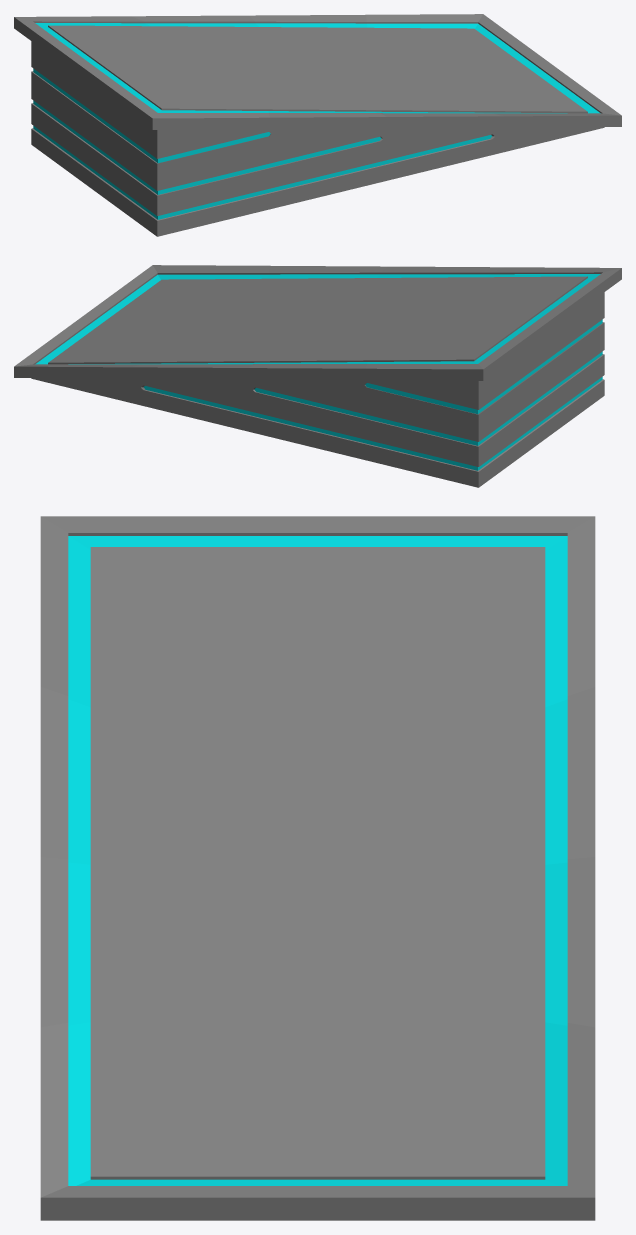
Rendered from Ramp.fbx.
3 renders of one model, top to bottom at view 1: azimuth 30°, elevation 25°; view 2: azimuth 150°, elevation 25°; view 3: azimuth 270°, elevation 25°, orthographic. The views are drawn at different scales.
Parts seen in each view (by area): view 1: Ramp; view 2: Ramp; view 3: Ramp.
Part boxes in pixels (box(x1,y1,x2,y2)): Ramp: box(14, 14, 621, 236); Ramp: box(14, 265, 621, 487); Ramp: box(40, 516, 595, 1220).
Bounding box in the file's own units: 430 × 110 × 220.
